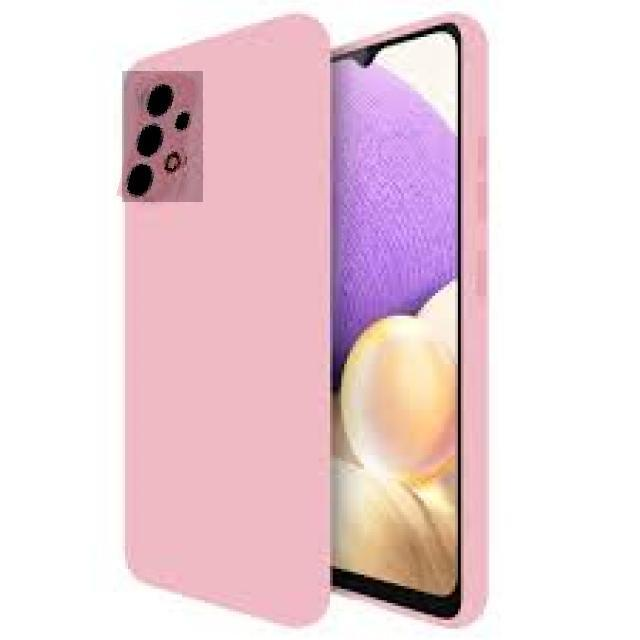phone: (121, 15, 328, 634), (326, 12, 484, 631)
